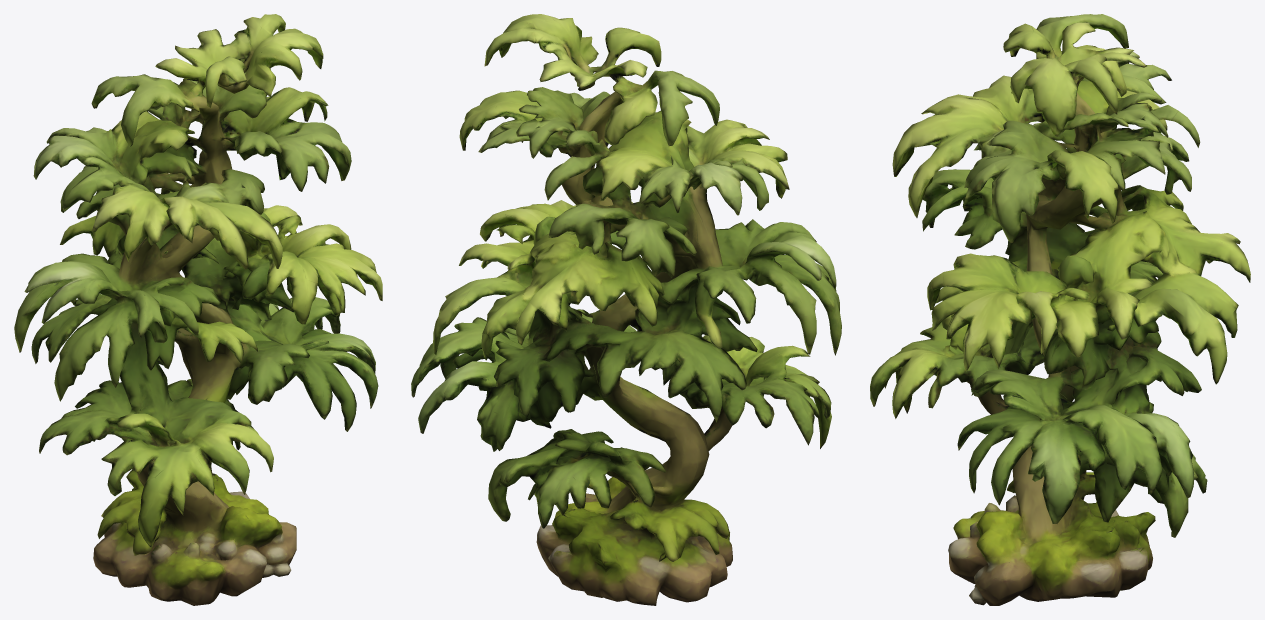
3 renders of one model, left to right at view 1: azimuth 30°, elevation 25°; view 2: azimuth 150°, elevation 25°; view 3: azimuth 270°, elevation 25°, orthographic. The views are drawn at different scales.
Visible parts, largest first — view 1: world; view 2: world; view 3: world.
Boxes of the visible parts, x1=… form: world: x1=14, y1=14, x2=382, y2=605; world: x1=411, y1=14, x2=841, y2=605; world: x1=870, y1=14, x2=1250, y2=605.
Size of the model in its own units: 0.6143 by 0.85 by 0.5159.
1 material, 1 textured.
